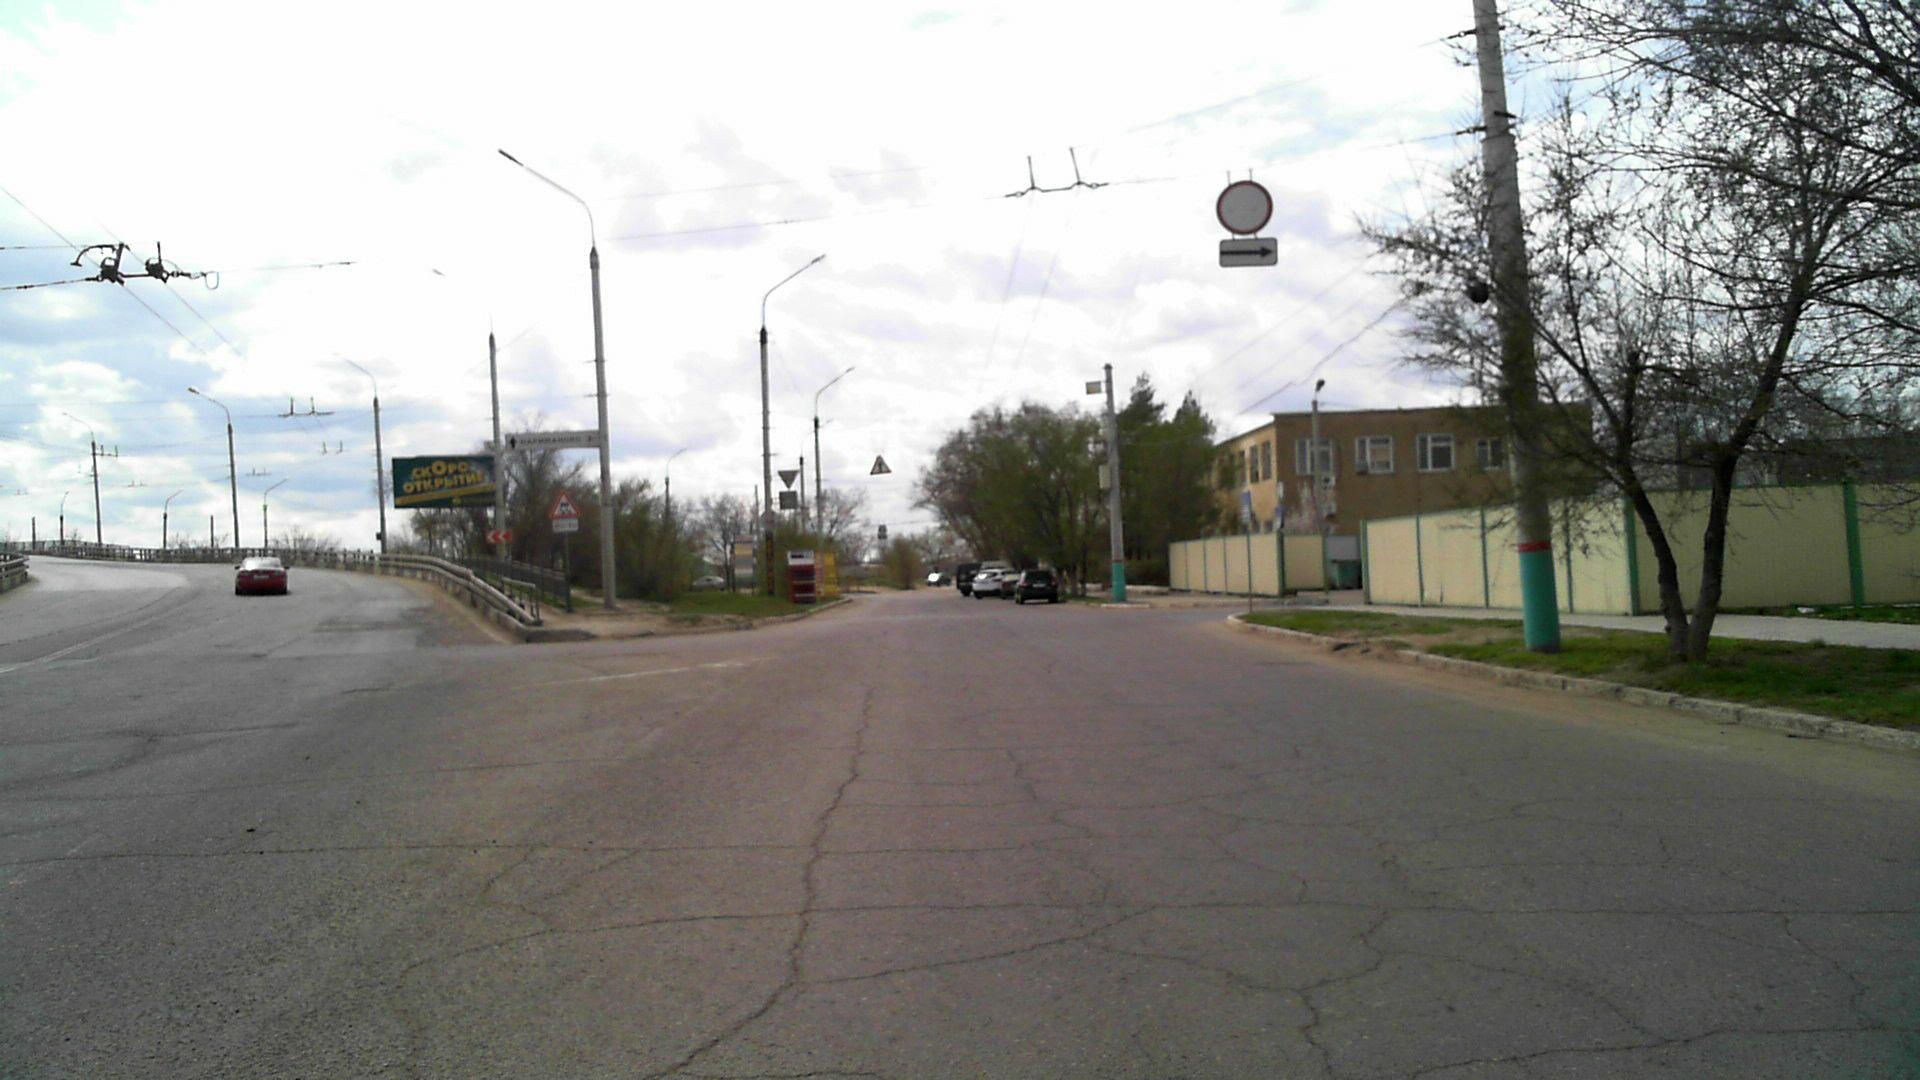1_15: (549, 489, 580, 517)
1_34_2: (484, 527, 514, 545)
2_3_1: (869, 455, 893, 475)
3_2: (1215, 178, 1274, 236)
8_3_1: (1218, 237, 1278, 268)
8_5_4: (551, 517, 579, 533)
